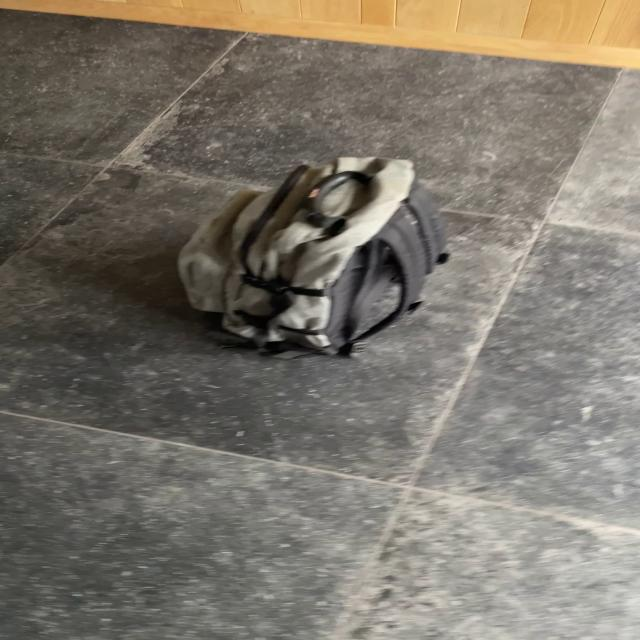backpack: (163, 148, 460, 358)
